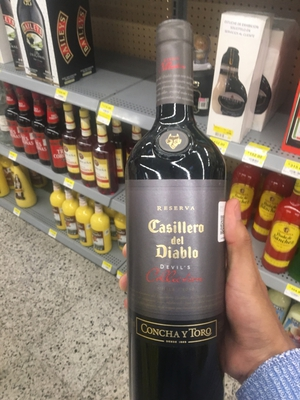casillero del diablo devils collection rojo: (119, 27, 232, 400)
